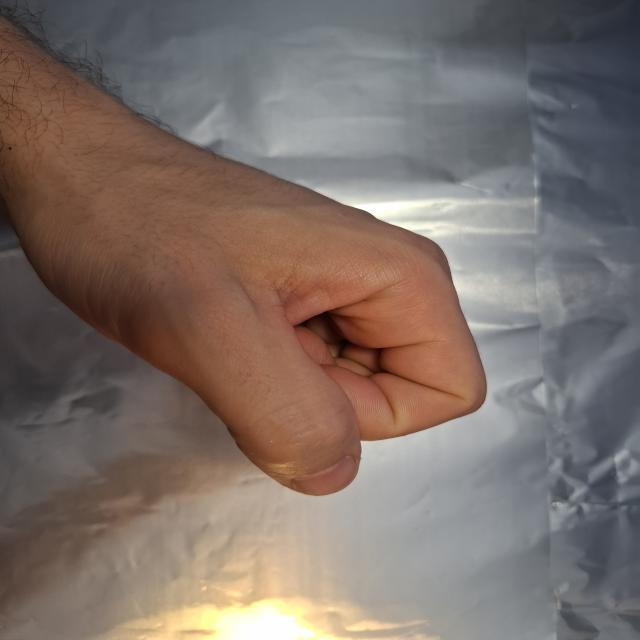glove_off: (10, 107, 490, 498)
